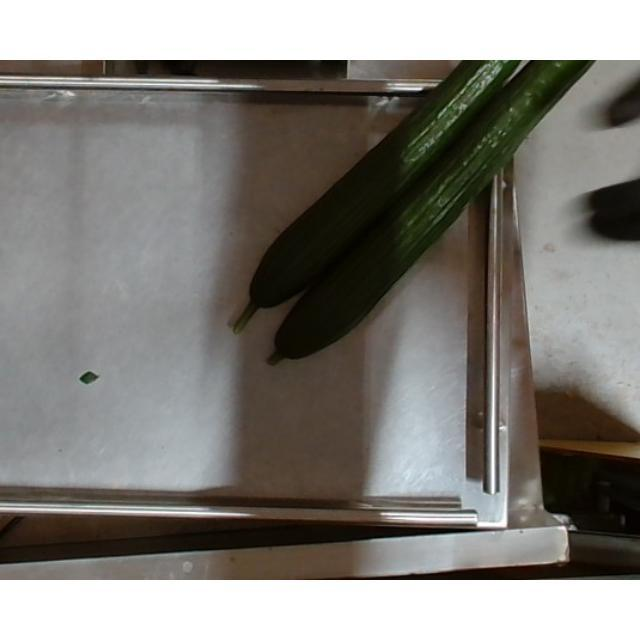cucumber: (267, 60, 597, 364), (234, 60, 524, 332)
